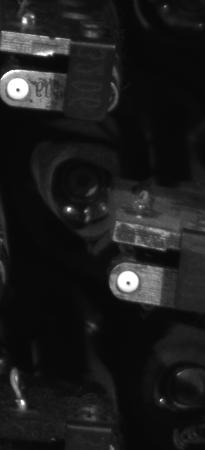fiber: (1, 71, 33, 106), (114, 266, 146, 298)
